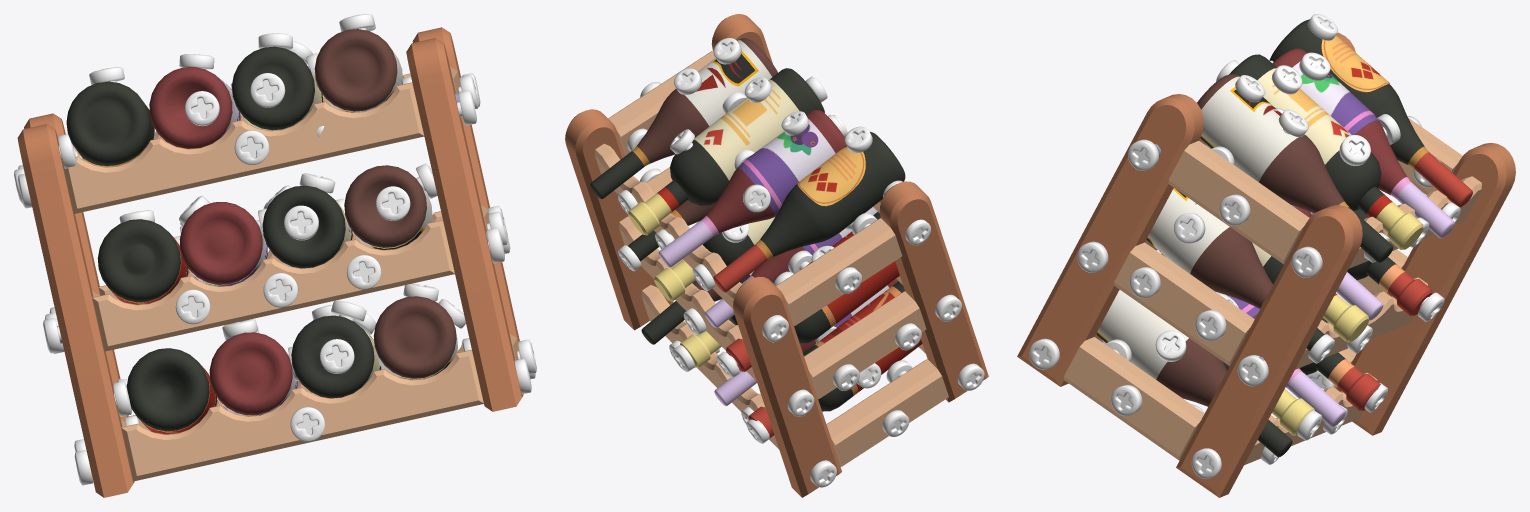
File: Wine.fbx
3 views of the same model, side by side, from view 1: azimuth 30°, elevation 25°; view 2: azimuth 150°, elevation 25°; view 3: azimuth 270°, elevation 25° (orthographic). The views are drawn at different scales.
Visible parts, largest first — view 1: Wine_014, Wine_012, Wine_001, Wine_010, Wine_013, Screw (×10), Wine_028, Wine_021, Wine_019, Wine_023, Wine_008, Wine_025 (+8 smaller); view 2: Wine_011, Wine_019, Wine_018, Wine_010, Screw (×16), Wine_020, Wine_008, Wine_009, Wine_005, Wine_007, Wine_006, Wine_021 (+12 smaller); view 3: Wine_009, Wine_001, Screw (×18), Wine_011, Wine_008, Wine_018, Wine_022, Wine_004, Wine_002, Wine_024, Wine_019, Wine_003 (+11 smaller).
Boxes of the visible parts, x1,y1,x2,y2 form: Wine_014: [121, 349, 483, 481]; Wine_012: [62, 82, 424, 213]; Wine_001: [406, 38, 523, 411]; Wine_010: [17, 124, 134, 497]; Wine_013: [92, 220, 454, 351]; Screw (×10): [175, 73, 410, 441]; Wine_028: [126, 348, 217, 434]; Wine_021: [97, 219, 188, 304]; Wine_019: [66, 81, 154, 166]; Wine_023: [179, 202, 267, 286]; Wine_008: [314, 29, 402, 112]; Wine_025: [209, 332, 297, 416]; Wine_011: [733, 277, 841, 497]; Wine_019: [713, 131, 905, 292]; Wine_018: [628, 68, 824, 235]; Wine_010: [879, 181, 988, 402]; Screw (×16): [674, 38, 984, 487]; Wine_020: [658, 110, 846, 267]; Wine_008: [590, 38, 777, 199]; Wine_009: [565, 109, 673, 330]; Wine_005: [826, 359, 948, 466]; Wine_007: [776, 218, 902, 325]; Wine_006: [804, 291, 926, 399]; Wine_021: [726, 212, 899, 371]; Wine_009: [1176, 205, 1362, 497]; Wine_001: [1017, 94, 1203, 386]; Screw (×18): [1029, 14, 1370, 479]; Wine_011: [1337, 142, 1515, 435]; Wine_008: [1197, 74, 1393, 262]; Wine_018: [1229, 54, 1423, 249]; Wine_022: [1146, 188, 1324, 350]; Wine_004: [1168, 141, 1309, 264]; Wine_002: [1064, 337, 1204, 460]; Wine_024: [1096, 290, 1292, 457]; Wine_019: [1269, 19, 1472, 207]; Wine_003: [1114, 242, 1254, 366].
Bounding box in the file's own units: 9.58 × 9.65 × 10.22.
Materials: 5 (4 with a texture image).
